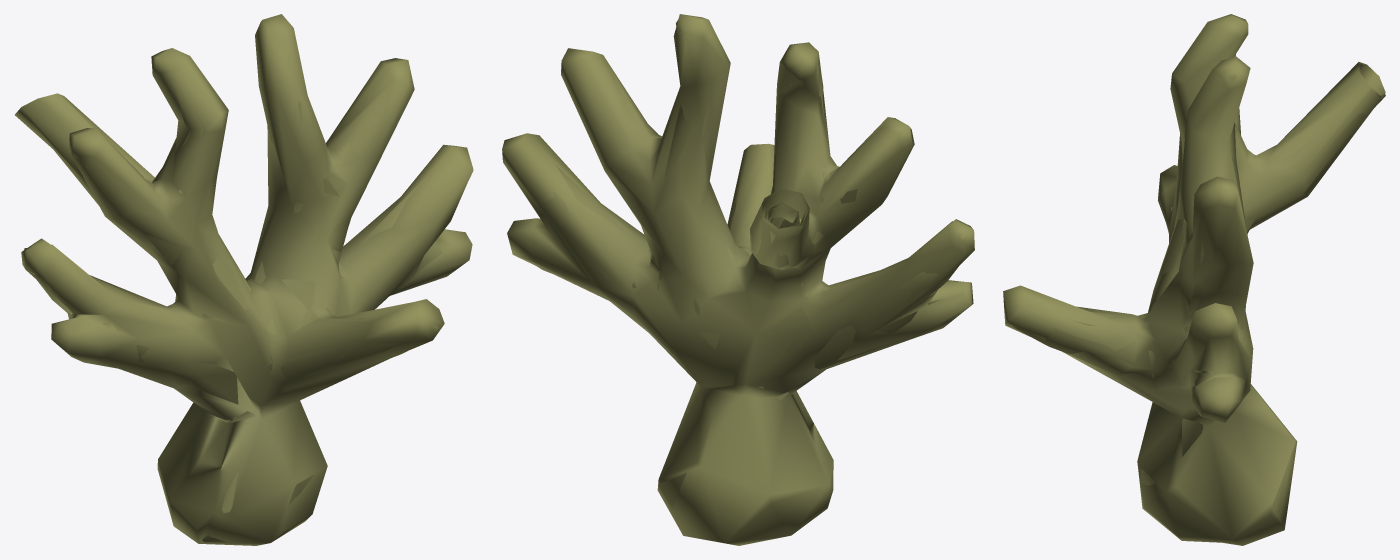
The model's file is gen3d-staghorn-coral-lod1.glb.
The picture shows the model from 3 angles, left to right: view 1: azimuth 30°, elevation 25°; view 2: azimuth 150°, elevation 25°; view 3: azimuth 270°, elevation 25°; orthographic projection. The views are drawn at different scales.
Visible parts, largest first — view 1: part_0; view 2: part_0; view 3: part_0.
Part boxes in pixels (left/top/right/bottom): part_0: left=15, top=14, right=473, bottom=545; part_0: left=502, top=14, right=974, bottom=545; part_0: left=1003, top=14, right=1385, bottom=545.
Bounding box in the file's own units: 0.9433 × 0.9967 × 0.7044.
